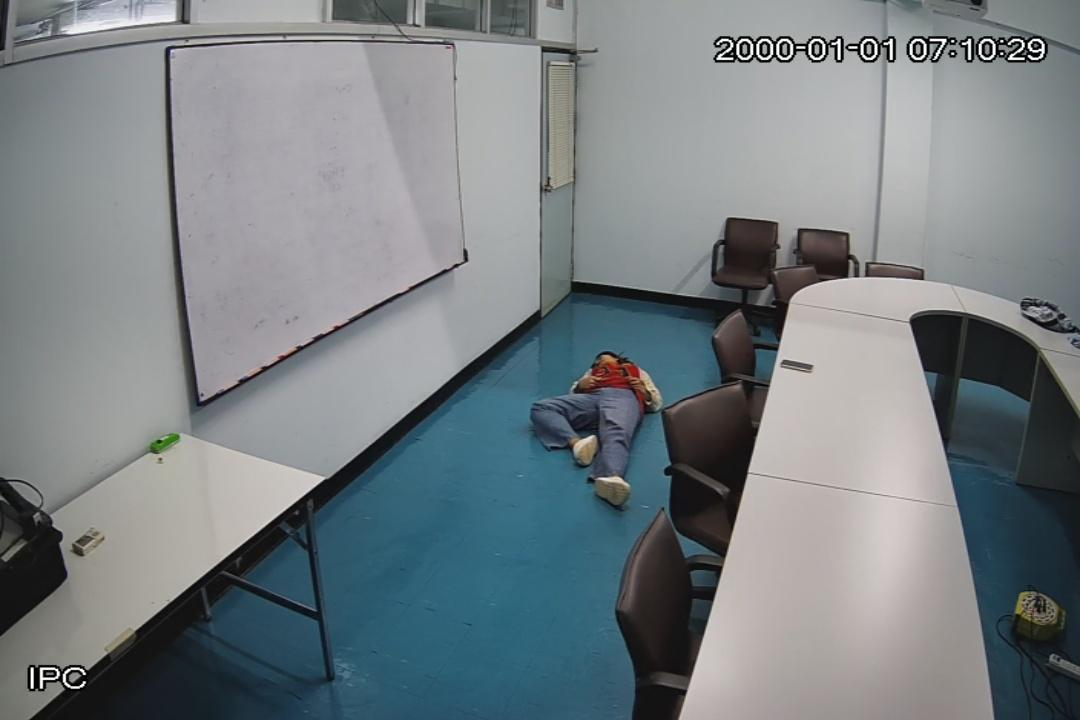fall: (528, 347, 660, 506)
